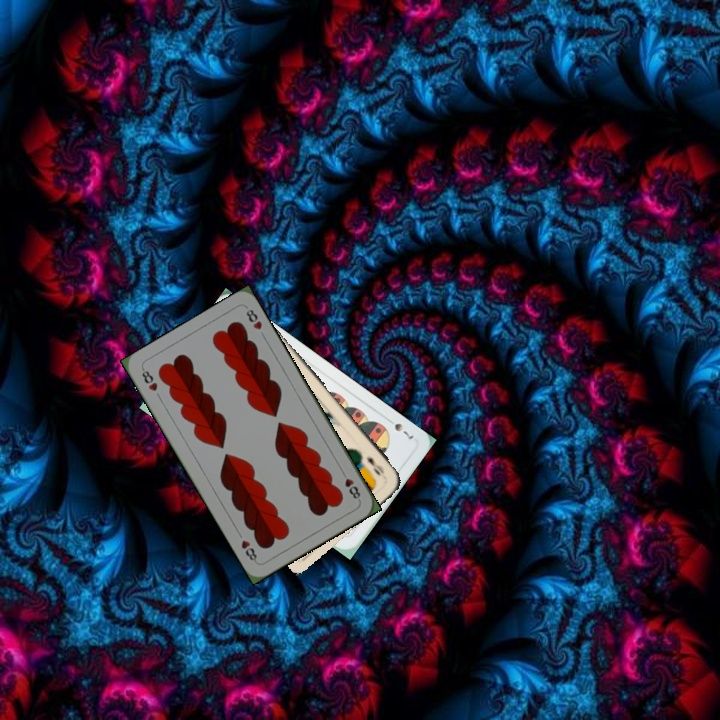EO: (363, 453, 387, 479)
H8: (337, 466, 363, 503), (138, 365, 160, 394)
S7: (382, 414, 416, 442)
